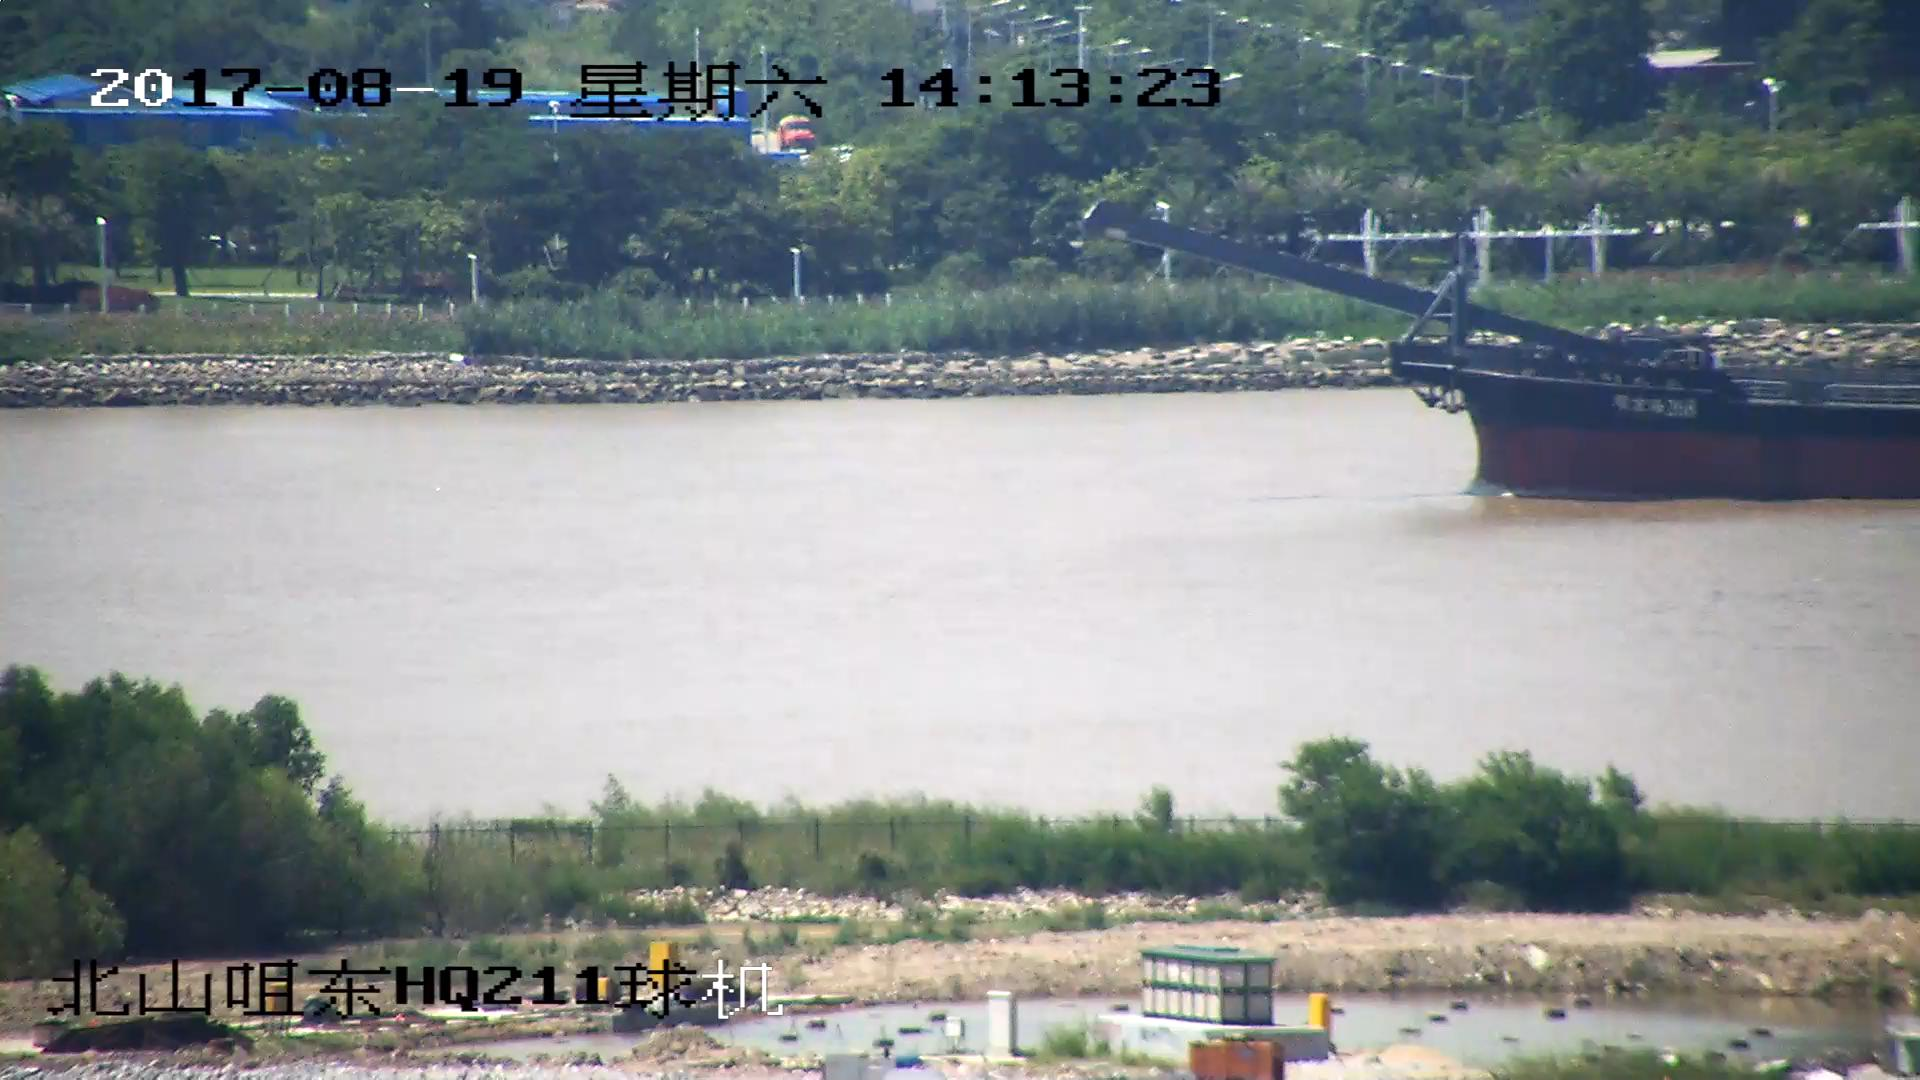bulk cargo carrier: (1089, 204, 1920, 507)
